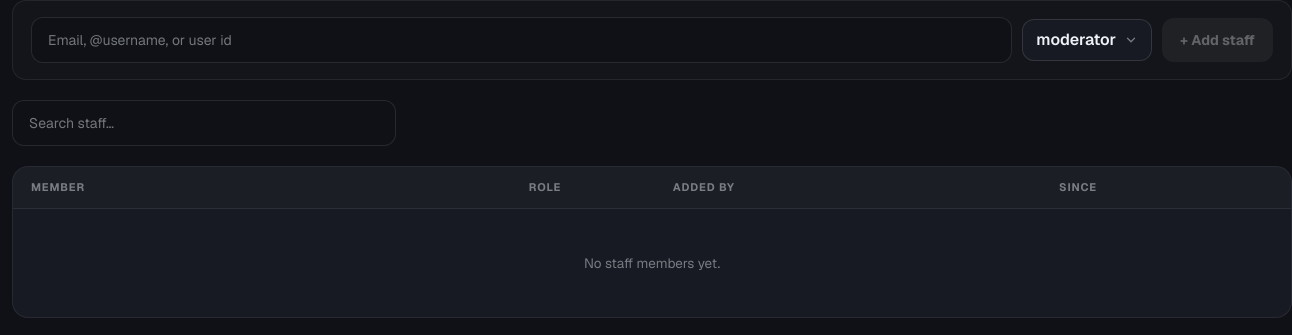
StaffTab › add staff › strips a leading @ before searching, and shows a matches dropdown for multiple hits
Expected: the text "No staff members yet." is shown, left=584, top=254, right=720, bottom=272
Step 1. Type "@bob" into the field named "Email, username, or user id of the user to add as staff" → [522, 40], box left=31, top=17, right=1012, bottom=63
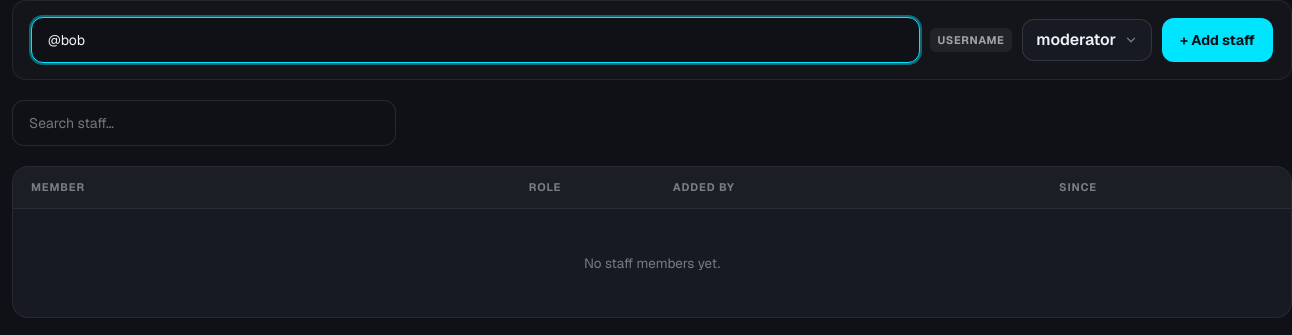
Step 2. Click the button "+ Add staff" → [1218, 40], box left=1162, top=18, right=1273, bottom=62
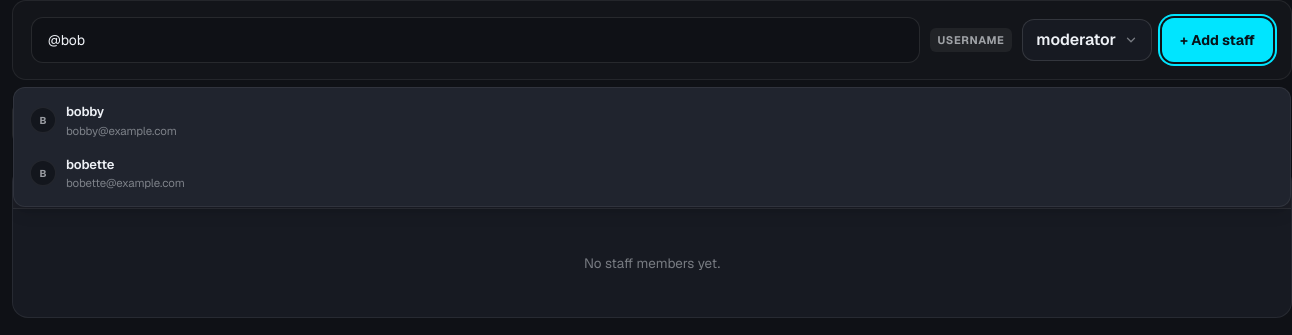
Step 3. Click the option "B bobette bobette@example.com" → [90, 164], box left=20, top=147, right=1284, bottom=200
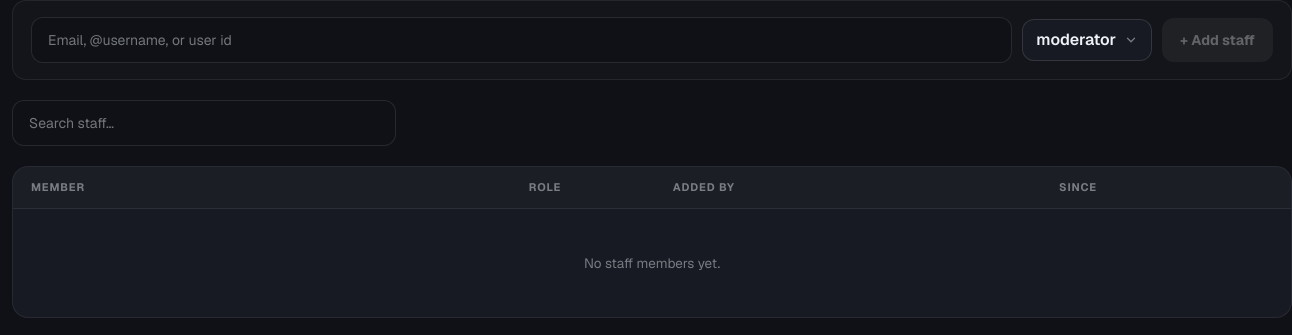
Expected: the list is gone
